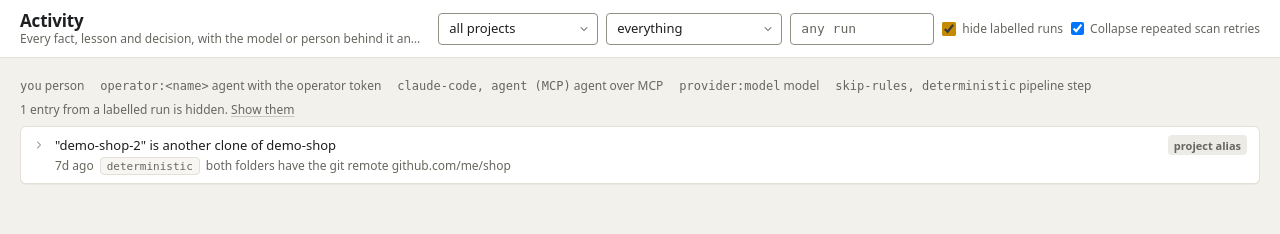
Test case: an entry made in a labelled run says which run, and whether it was a sandbox (labelled runs shown)
expect the text "\"demo-shop-2\" is another clone of demo-shop" is shown: met, box [55,136,336,154]
Click the checkbox labelled "hide labelled runs" at (949, 29), box [942,22,956,36]
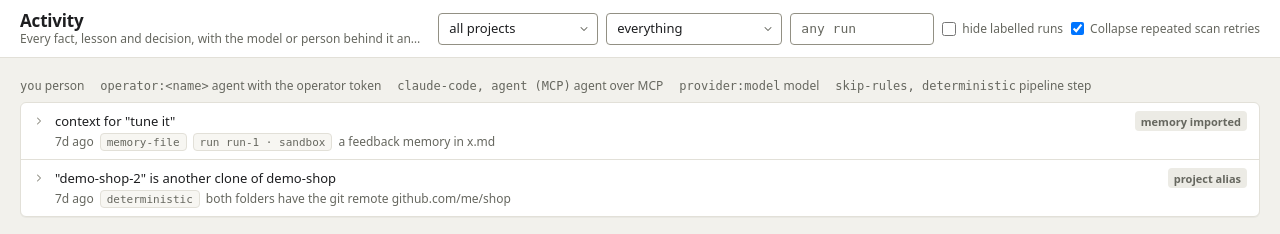
expect the text "context for \"tune it\"" is shown: met, box [55,112,175,130]
expect the text "run run-1 · sandbox" is shown once: met, box [200,137,325,148]
